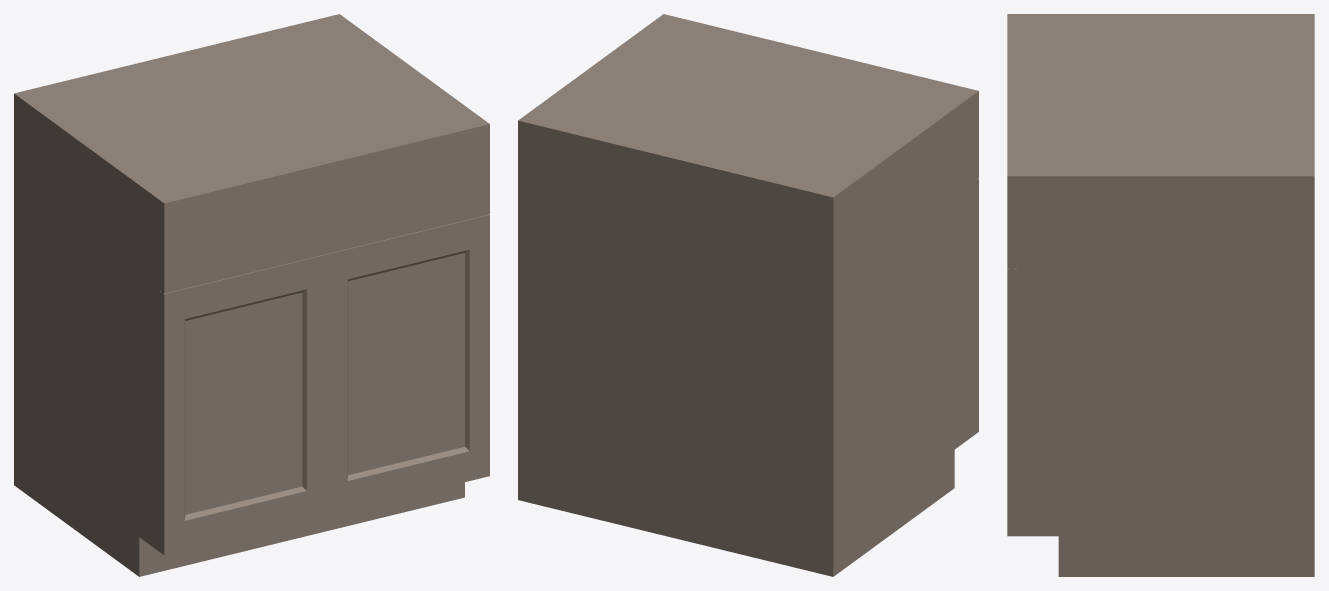
The model's file is Base-Cabinet-Double-Door-Two-Drawer-24-Deep_std_001_W30in.glb.
3 renders of one model, left to right at view 1: azimuth 30°, elevation 25°; view 2: azimuth 150°, elevation 25°; view 3: azimuth 270°, elevation 25°, orthographic. The views are drawn at different scales.
Visible parts, largest first — view 1: Base-Cabinet-Double-Door-Two-Drawer-24-Deep.std.001_W30in; view 2: Base-Cabinet-Double-Door-Two-Drawer-24-Deep.std.001_W30in; view 3: Base-Cabinet-Double-Door-Two-Drawer-24-Deep.std.001_W30in.
Part boxes in pixels (x1=…): Base-Cabinet-Double-Door-Two-Drawer-24-Deep.std.001_W30in: x1=14, y1=14, x2=489, y2=576; Base-Cabinet-Double-Door-Two-Drawer-24-Deep.std.001_W30in: x1=518, y1=14, x2=978, y2=576; Base-Cabinet-Double-Door-Two-Drawer-24-Deep.std.001_W30in: x1=1007, y1=14, x2=1314, y2=576.
Size of the model in its own units: 0.762 by 0.8763 by 0.6096.
